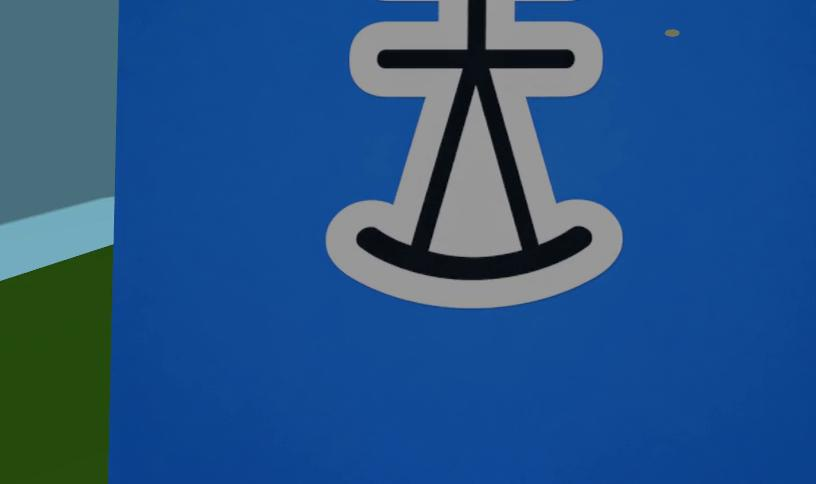KFS_REAL: (108, 0, 816, 483), (325, 0, 620, 308)
